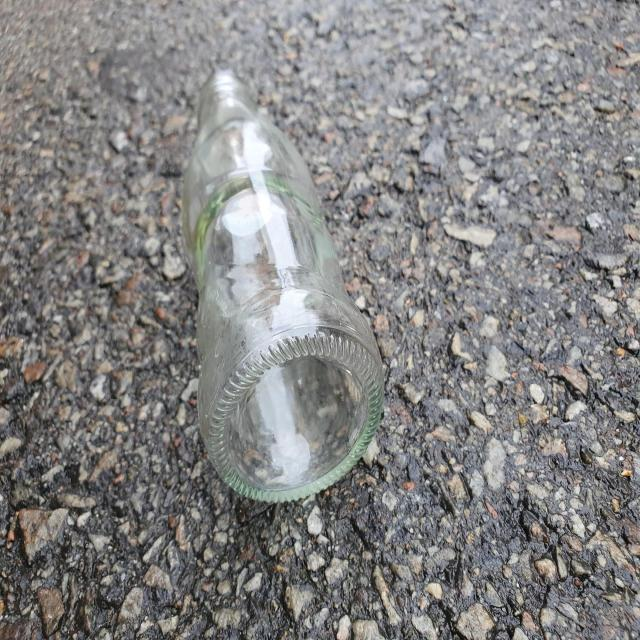glass: (183, 70, 384, 502)
